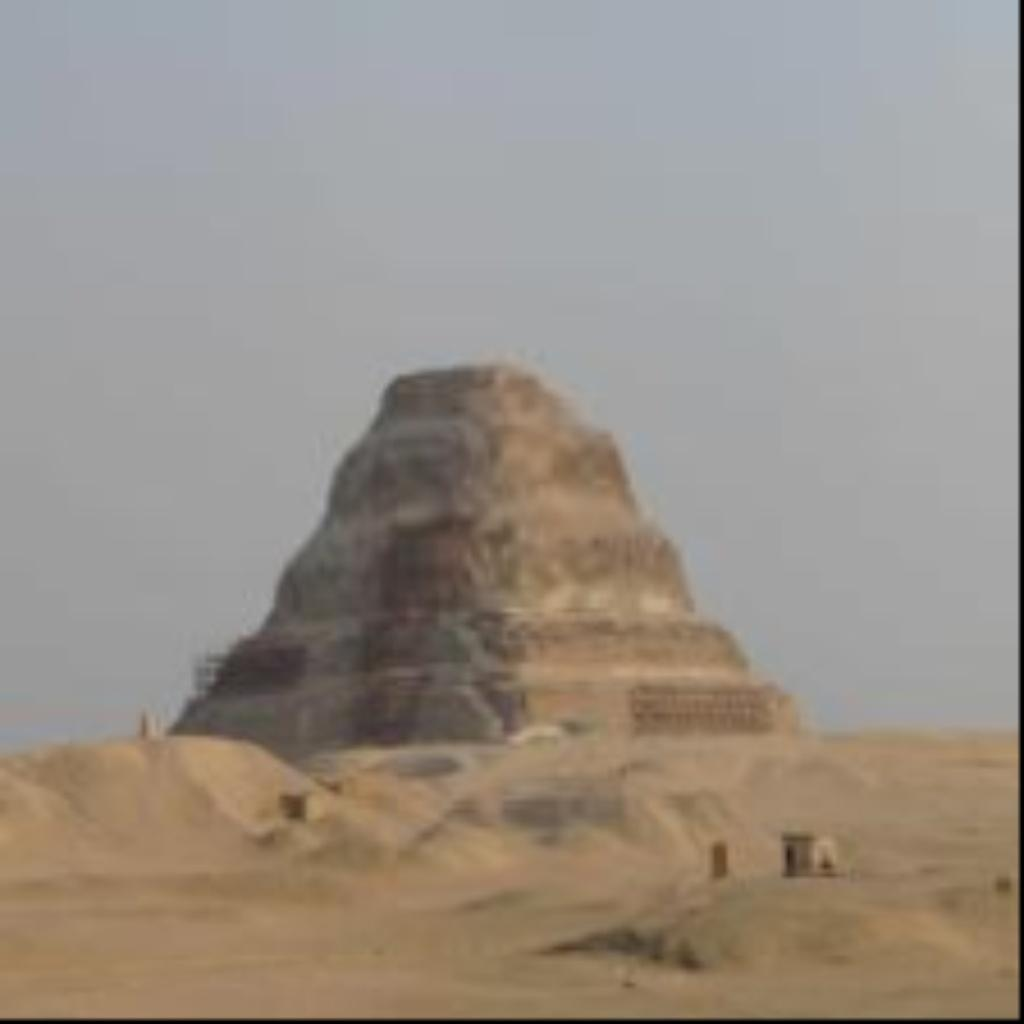Pyramid of Djoser: (160, 352, 809, 763)
